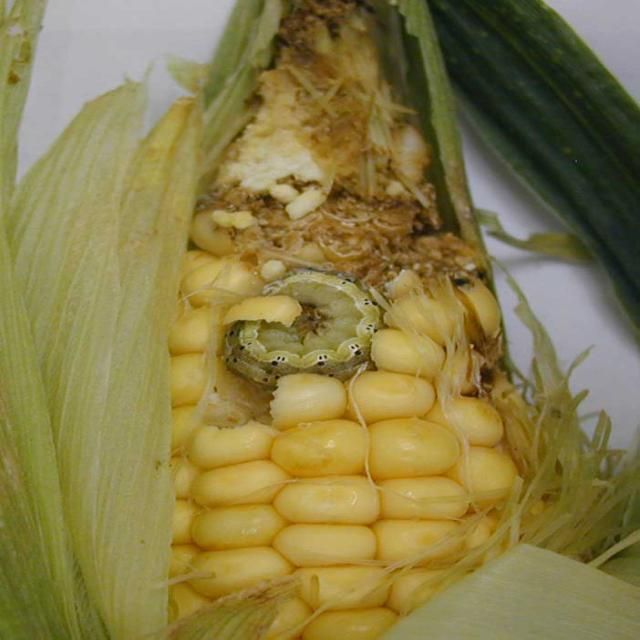Corn-earworm: (232, 270, 384, 384)
